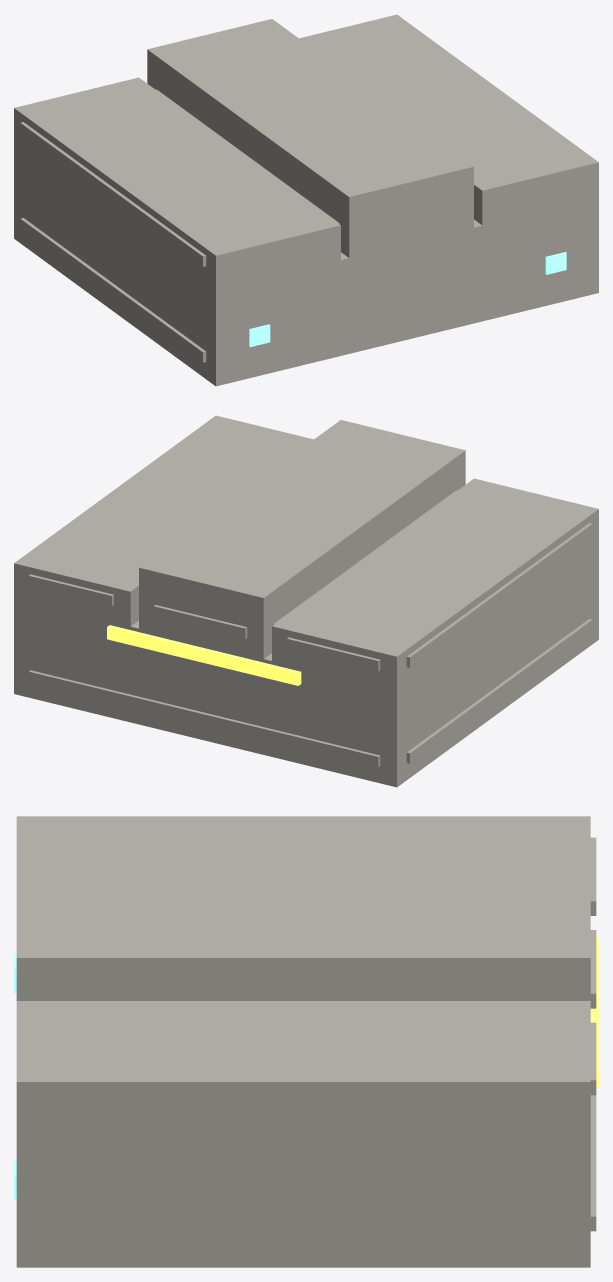
Rendered from workshop_lod0-D2w44BAc.glb.
The picture shows the model from 3 angles, top to bottom: view 1: azimuth 30°, elevation 25°; view 2: azimuth 150°, elevation 25°; view 3: azimuth 270°, elevation 25°; orthographic projection. The views are drawn at different scales.
Visible parts, largest first — view 1: body, window; view 2: body, sign; view 3: body.
Boxes of the visible parts, x1,y1,x2,y2 form: body: [14, 14, 598, 386]; window: [249, 252, 566, 347]; body: [14, 415, 598, 787]; sign: [107, 625, 301, 685]; body: [16, 816, 596, 1267].
Bounding box in the file's own units: 0.928 × 0.36 × 0.856.
